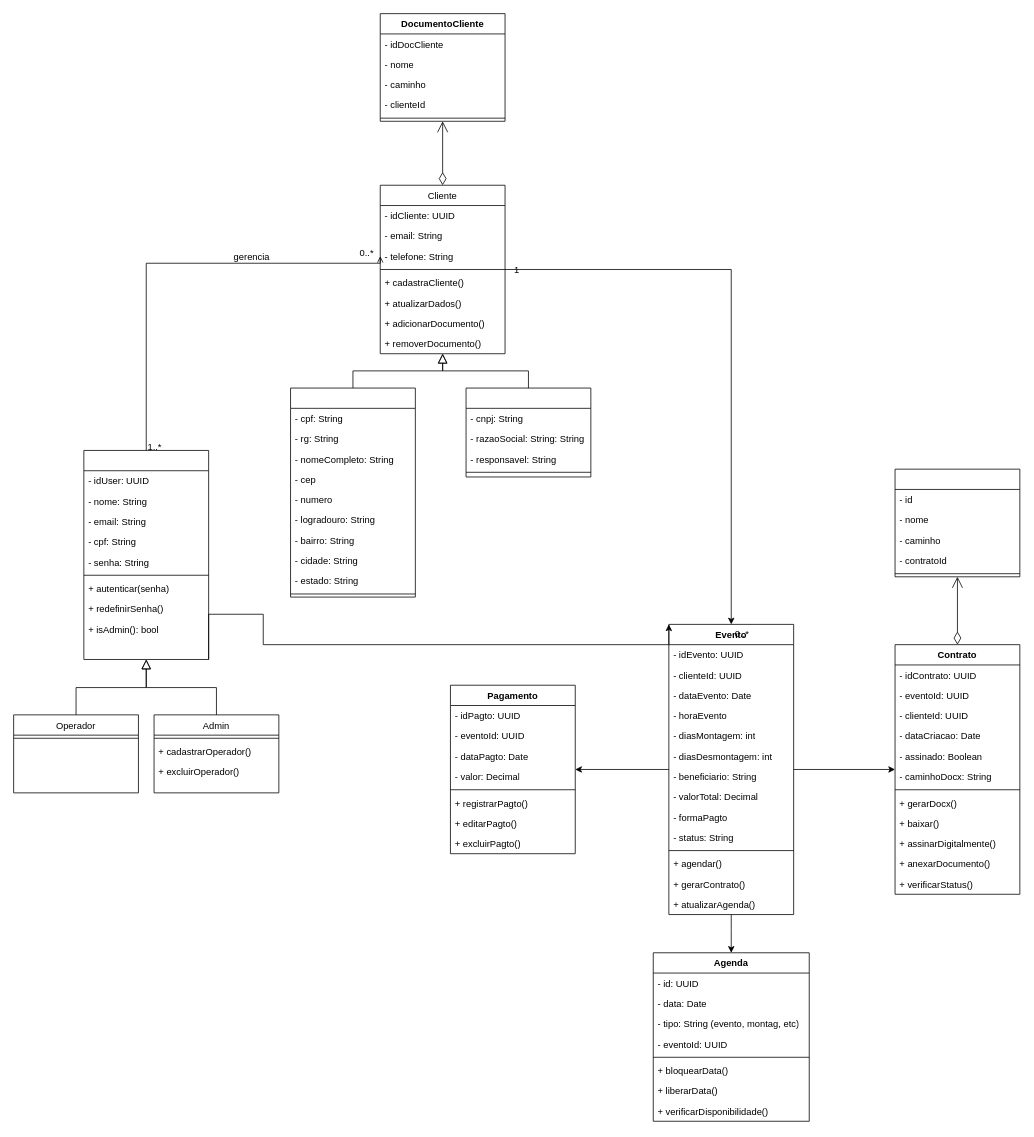
Some shapes in this 1034 by 1137 pixel diagram are drawn without their labels. Here are the shapes that lost their labels. From the top down, the box of each, then its label:
(465, 387, 591, 477): Pessoa Jurídica
(290, 387, 415, 597): Pessoa Física
(894, 468, 1020, 577): DocumentoContrato
(83, 450, 209, 659): Usuários
